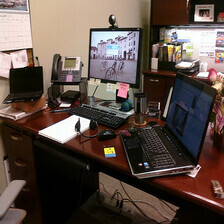laptop: (104, 70, 215, 191), (1, 62, 52, 109)
